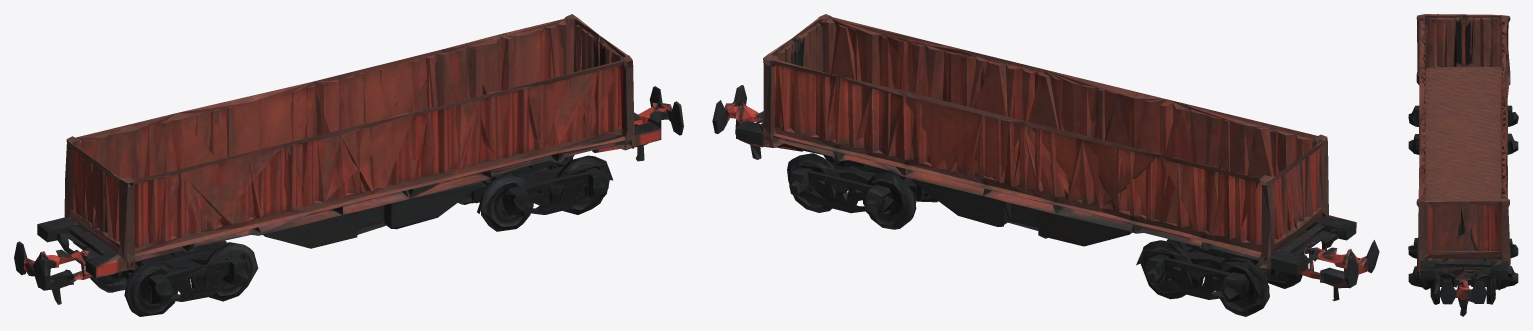
Rendered from train-fret.glb.
The picture shows the model from 3 angles, left to right: view 1: azimuth 30°, elevation 25°; view 2: azimuth 150°, elevation 25°; view 3: azimuth 270°, elevation 25°; orthographic projection. The views are drawn at different scales.
Size of the model in its own units: 1.9 by 0.4356 by 0.3732.
1 material, 1 textured.
